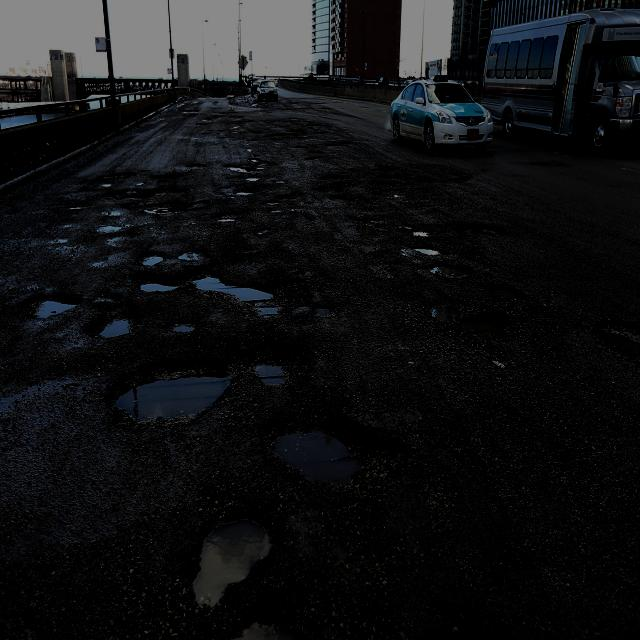Pothole: (32, 157, 397, 640), (397, 203, 527, 370), (416, 601, 513, 638), (594, 308, 640, 372)
